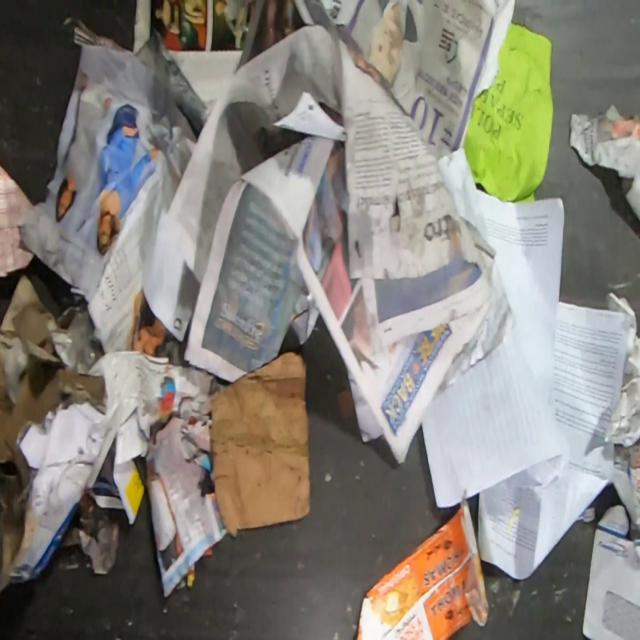cardboard: (0, 274, 107, 594), (206, 350, 312, 539), (6, 402, 110, 586), (354, 500, 490, 640)
